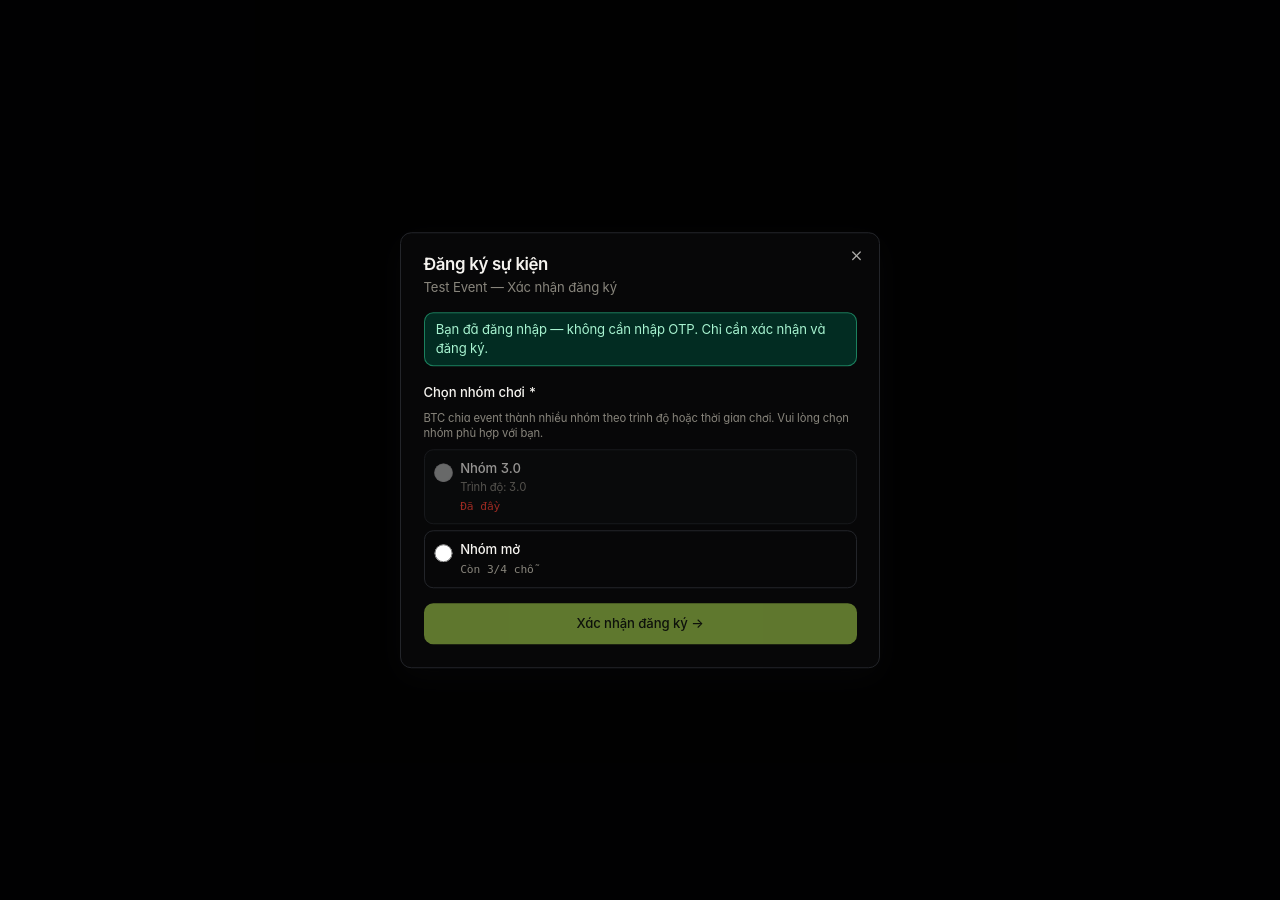
Test: member path › slot capacity: full slot is disabled with 'Đã đầy'; open slot shows remaining and registers with slot_id
expect the text "Đã đầy" is shown: met, box x1=460 y1=500 x2=500 y2=513
expect the text "Còn 3/4 chỗ" is shown: met, box x1=460 y1=564 x2=534 y2=577
What coordinates should you click on to do the following:
click the radio button labelled "Nhóm mở Còn 3/4 chỗ"
I would click on:
 (443, 553)
Its box is x1=434 y1=544 x2=453 y2=563.
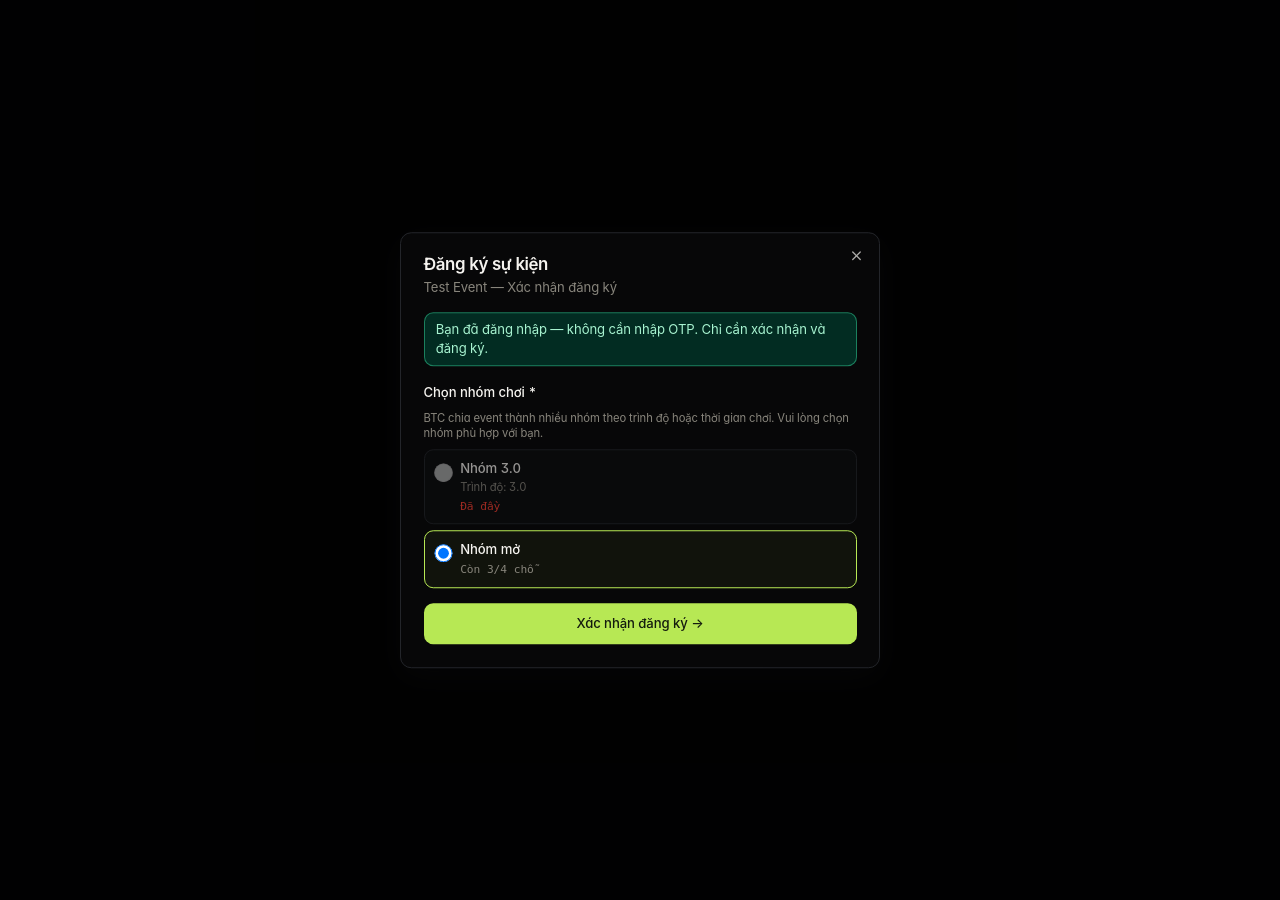
expect the button "Xác nhận đăng ký →" is enabled: met
What coordinates should you click on to do the following:
click the button "Xác nhận đăng ký →"
I would click on:
 (640, 624)
Its box is x1=424 y1=603 x2=856 y2=644.
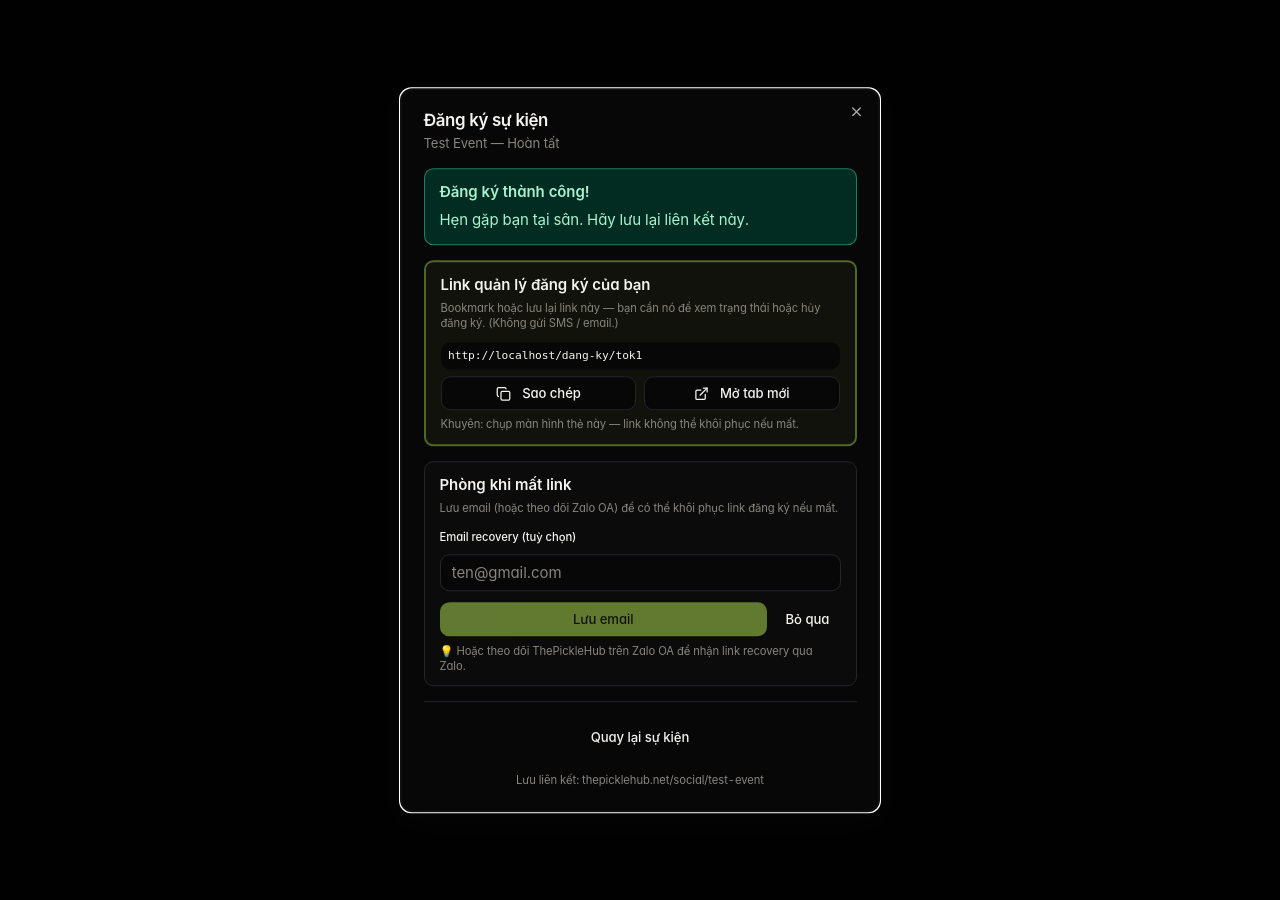
expect the text "Đăng ký thành công!" is shown: met, box x1=440 y1=182 x2=590 y2=201
